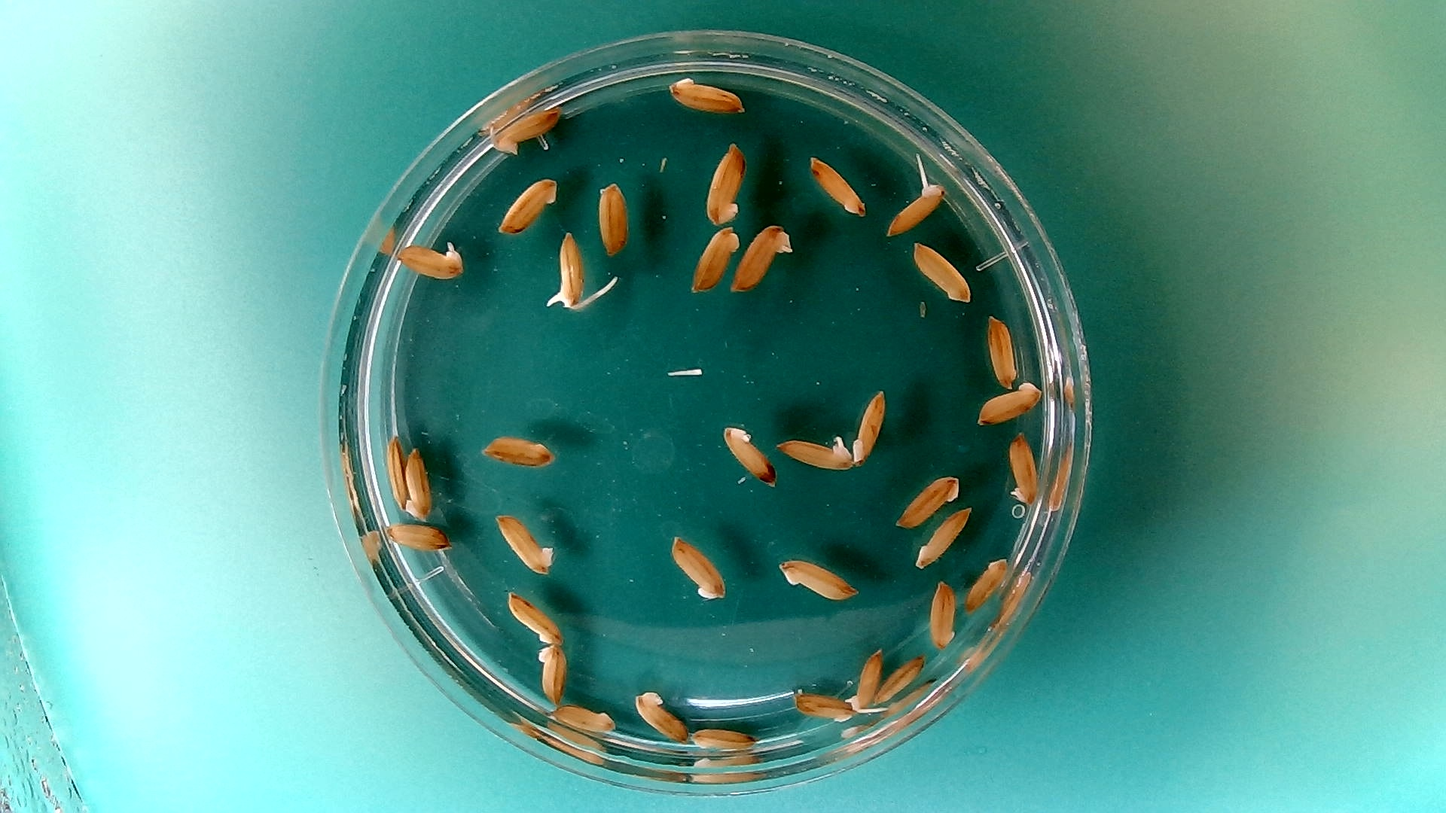no: (667, 530, 731, 602), (487, 100, 565, 157), (492, 509, 556, 577), (774, 553, 861, 601), (700, 139, 748, 226), (718, 420, 779, 488), (893, 470, 962, 530), (910, 238, 973, 303), (913, 502, 973, 570), (496, 174, 561, 236), (807, 154, 868, 218), (688, 223, 742, 294), (502, 587, 566, 646), (664, 72, 747, 115), (631, 687, 691, 745), (974, 377, 1045, 426), (476, 429, 557, 469), (849, 385, 887, 468), (872, 650, 927, 705), (594, 178, 630, 258), (962, 553, 1009, 614), (400, 443, 435, 523), (983, 312, 1019, 389), (380, 517, 452, 552), (927, 577, 959, 651), (790, 687, 854, 723), (533, 642, 569, 706), (548, 700, 618, 732), (383, 434, 410, 514), (692, 726, 761, 754)
yes: (728, 219, 795, 295), (545, 227, 590, 314), (773, 431, 853, 473), (883, 182, 942, 238), (395, 236, 468, 281), (1005, 430, 1041, 510), (846, 643, 885, 714)
